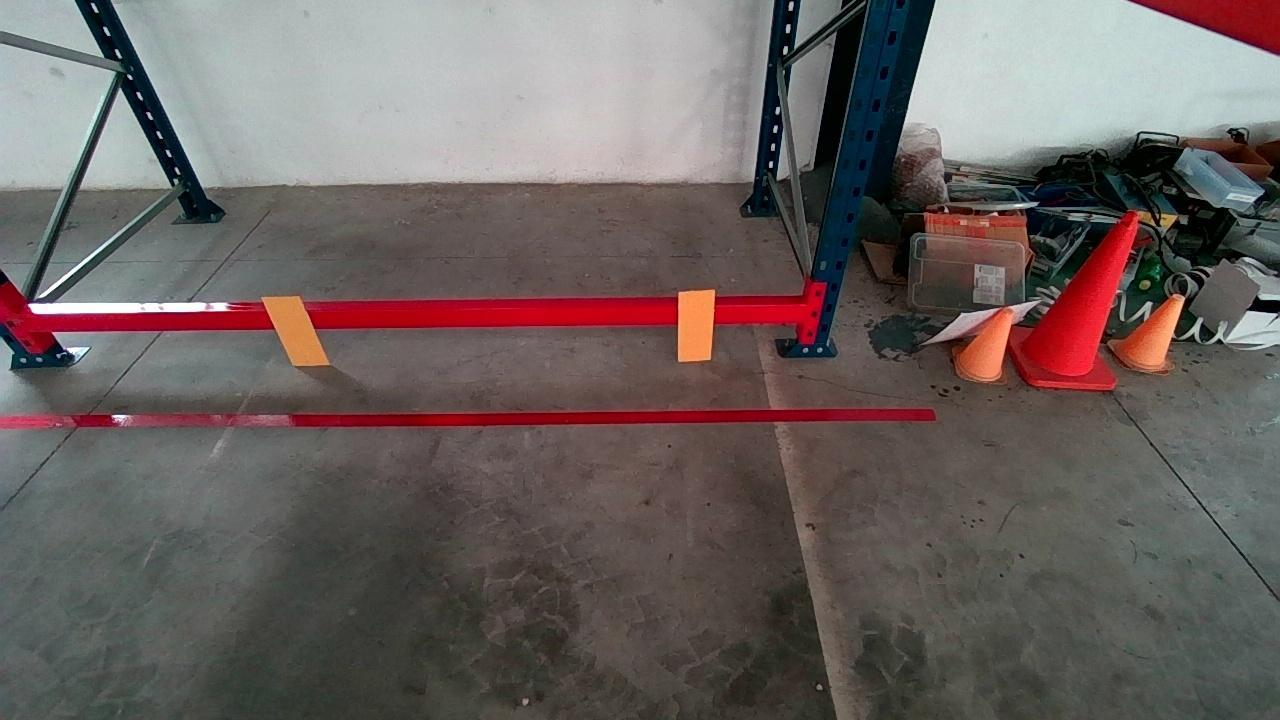h_rack: (27, 300, 809, 338)
orange_strip: (263, 295, 329, 365), (677, 289, 716, 359)
red_line: (13, 392, 925, 443)
